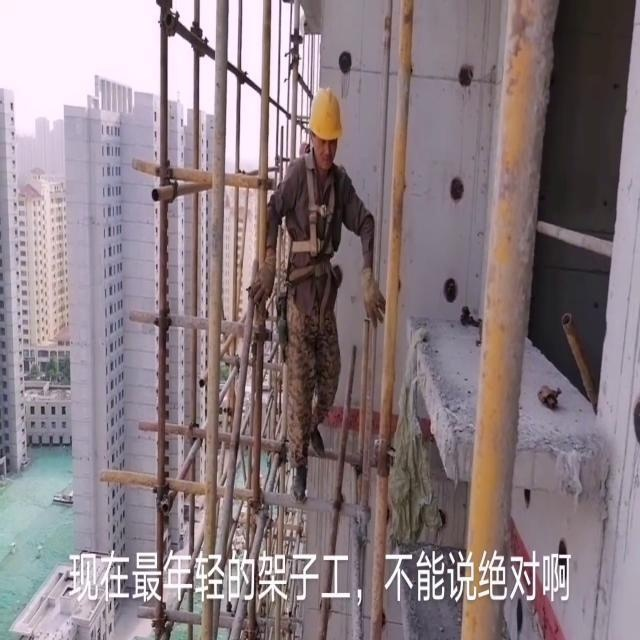Arnes_seguridad: (287, 146, 341, 269)
